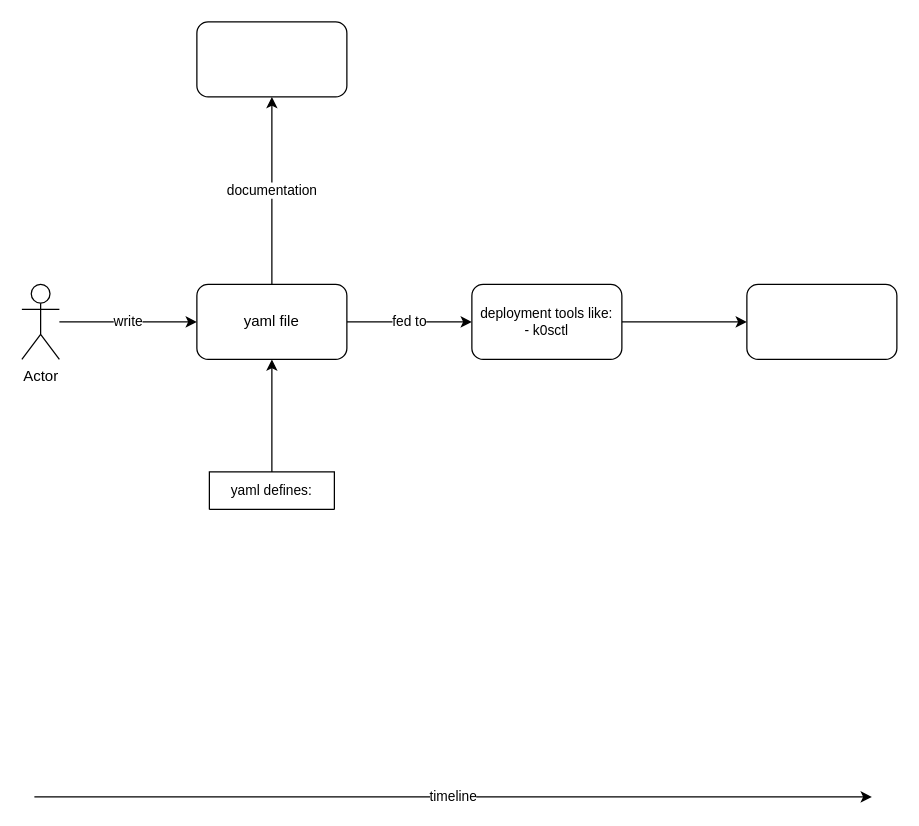
This 919x826 diagram has some shape labels left out. Here are the shapes that lost their labels. From the top down, the centre of each, then its label:
At point 271,59: "store yaml in git".
At point 821,321: "production ready".
